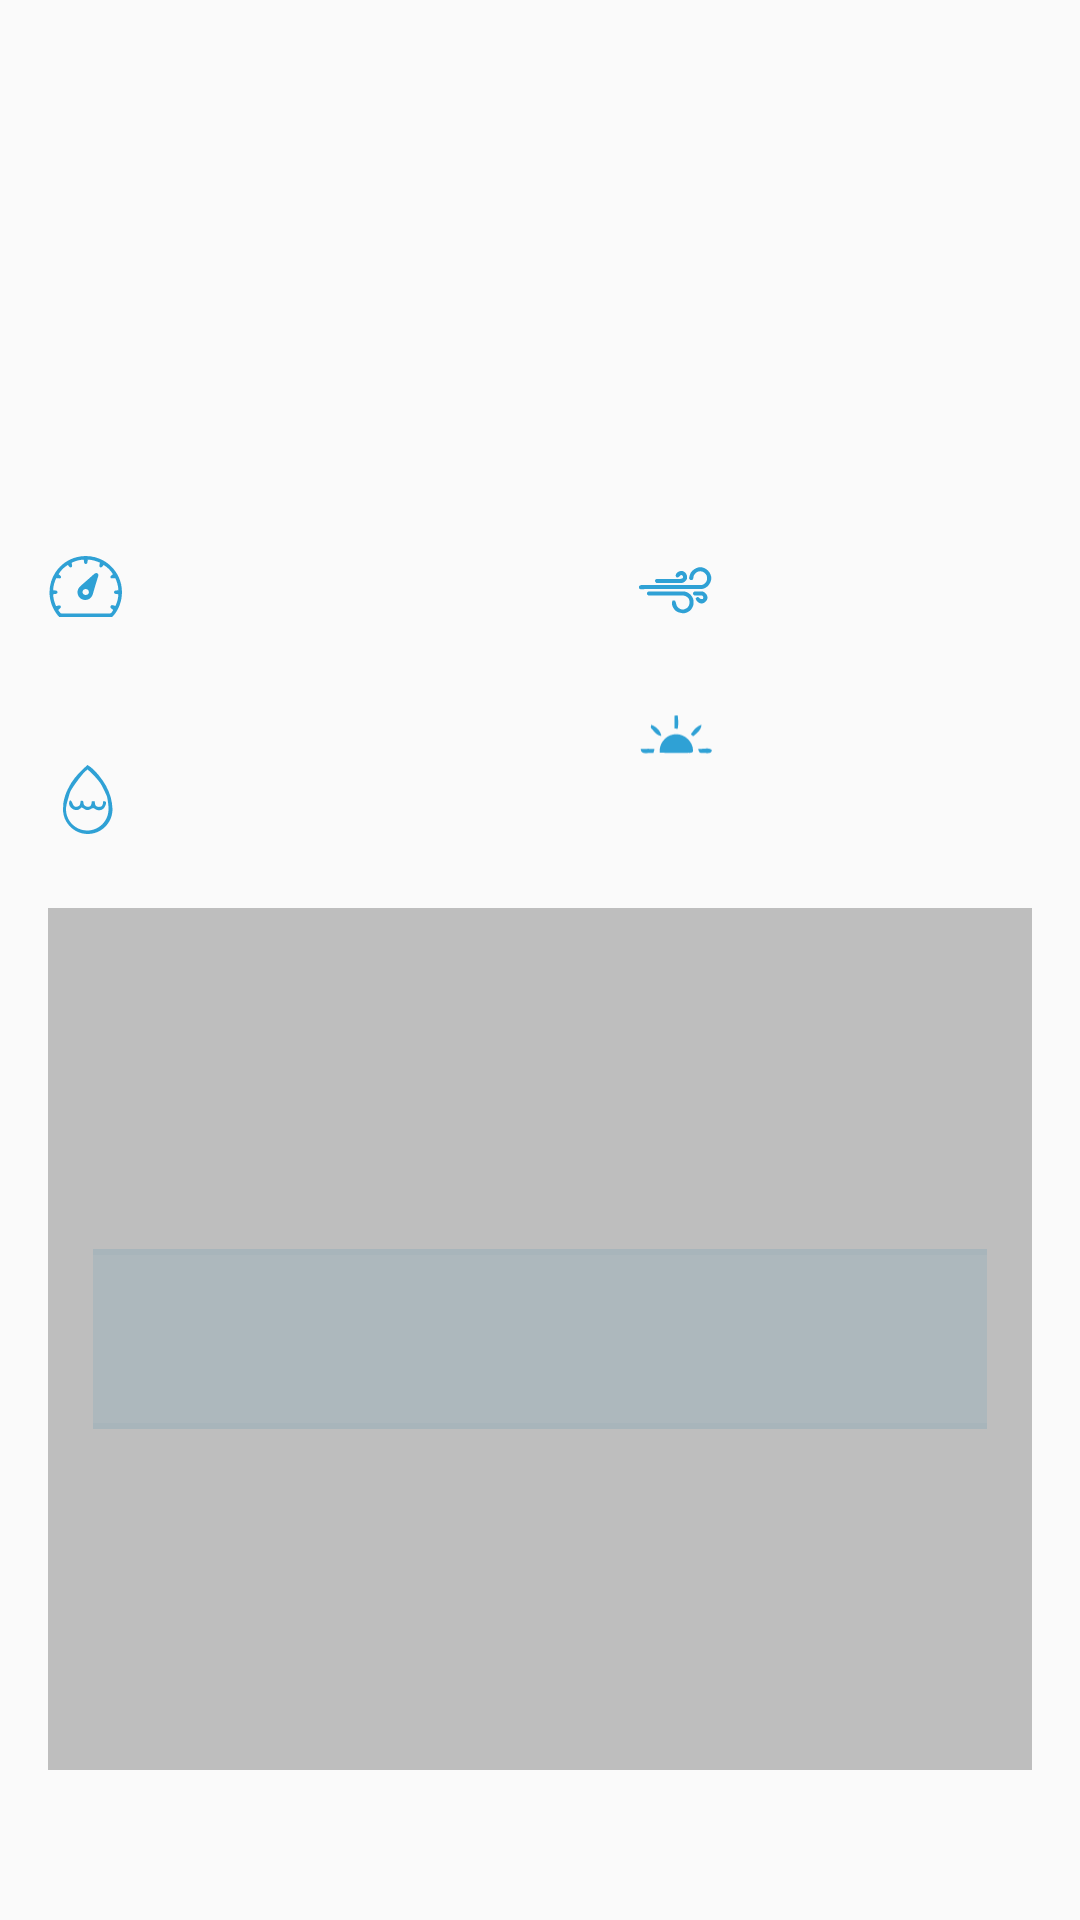

Where to tap for icons on this 1080×1920 app screen, as (x=x, y=y):
humidity: (x=88, y=799)
pressure: (x=85, y=586)
wind speed: (x=675, y=590)
